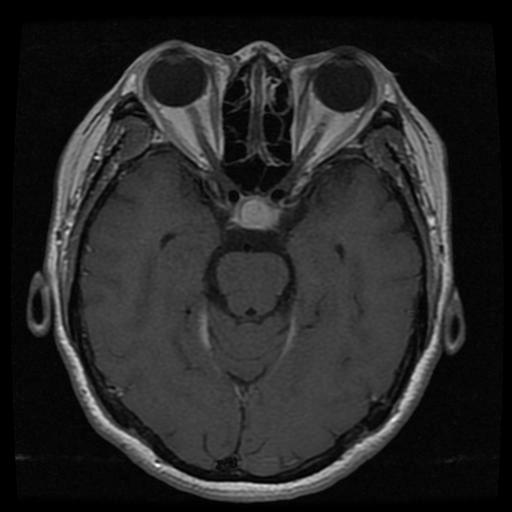Tumour-Pituitary: (198, 190, 317, 239)
